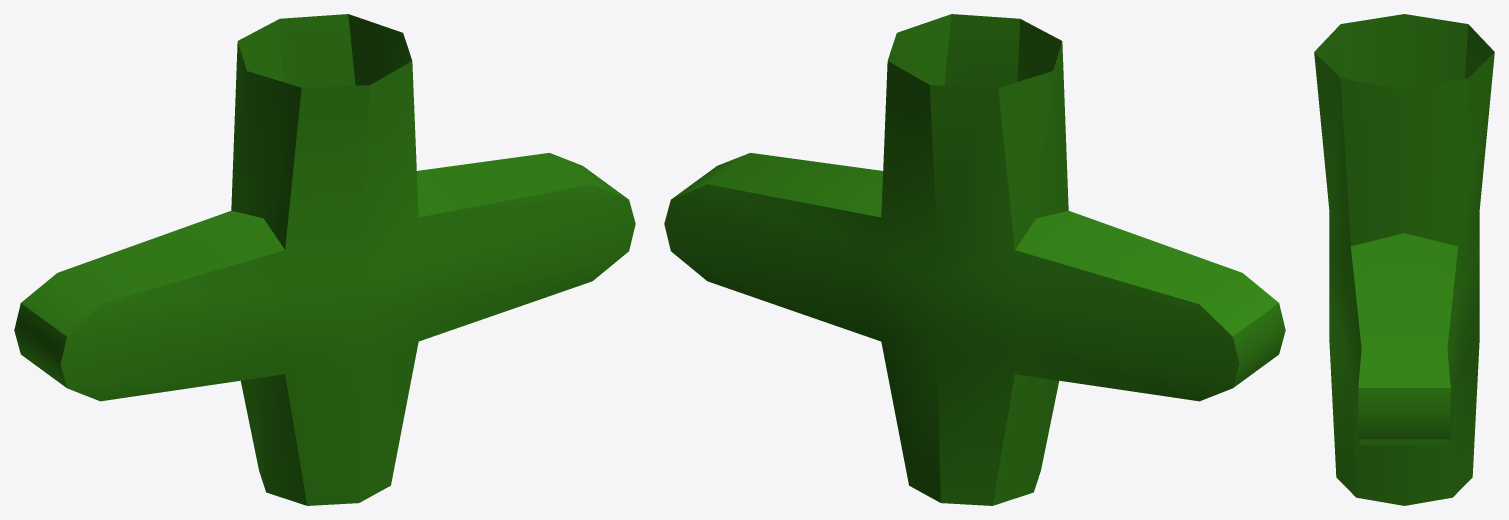
File: FlowerBase.fbx
The picture shows the model from 3 angles, left to right: view 1: azimuth 30°, elevation 25°; view 2: azimuth 150°, elevation 25°; view 3: azimuth 270°, elevation 25°; orthographic projection.
Parts seen in each view (by area): view 1: Flower.001; view 2: Flower.001; view 3: Flower.001.
Boxes of the visible parts, x1,y1,x2,y2 form: Flower.001: [14, 14, 635, 505]; Flower.001: [664, 14, 1285, 505]; Flower.001: [1314, 14, 1494, 505].
Size of the model in its own units: 4.37 by 3.26 by 1.19.
